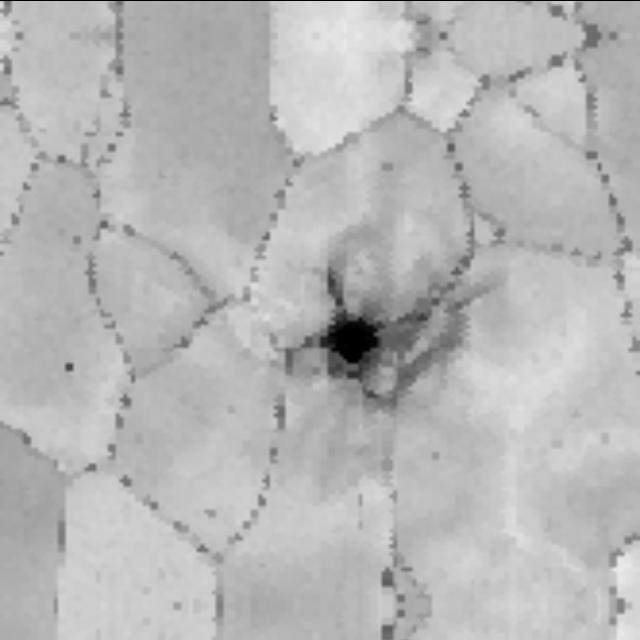good_void: (263, 252, 505, 413), (376, 561, 400, 591), (376, 618, 400, 640), (62, 359, 80, 375), (377, 159, 398, 172), (71, 234, 86, 244)
